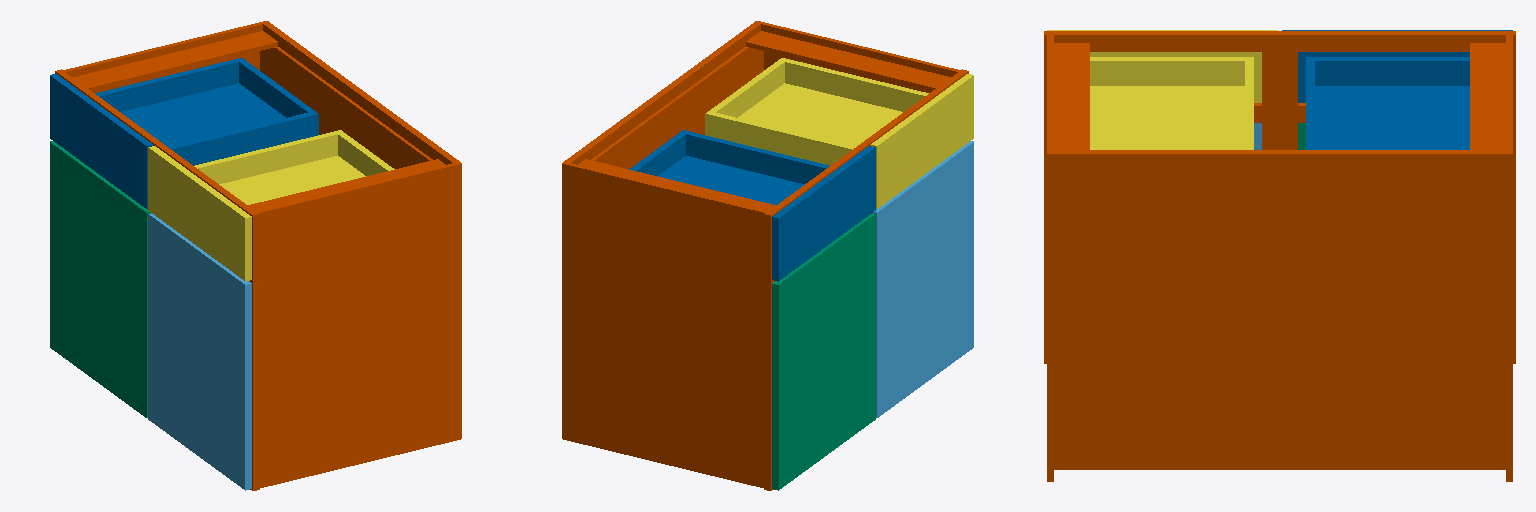
The robot description file, URDF, robot "partnet_190cb7264781df604da5feafe6f1c8fc":
<?xml version="1.0" ?>
<robot name="partnet_190cb7264781df604da5feafe6f1c8fc">
	<link name="base"/>
	<link name="link_0">
		<visual name="cabinet_door_surface-25">
			<origin xyz="-0.6681607803488558 0.5002580285072327 -0.4117648367332666"/>
			<geometry>
				<mesh filename="textured_objs/original-65.obj"/>
			</geometry>
		</visual>
		<visual name="handle-26">
			<origin xyz="-0.6681607803488558 0.5002580285072327 -0.4117648367332666"/>
			<geometry>
				<mesh filename="textured_objs/original-67.obj"/>
			</geometry>
		</visual>
		<visual name="handle-26">
			<origin xyz="-0.6681607803488558 0.5002580285072327 -0.4117648367332666"/>
			<geometry>
				<mesh filename="textured_objs/original-69.obj"/>
			</geometry>
		</visual>
		<visual name="handle-26">
			<origin xyz="-0.6681607803488558 0.5002580285072327 -0.4117648367332666"/>
			<geometry>
				<mesh filename="textured_objs/original-68.obj"/>
			</geometry>
		</visual>
		<collision>
			<origin xyz="-0.6681607803488558 0.5002580285072327 -0.4117648367332666"/>
			<geometry>
				<mesh filename="textured_objs/original-65.obj"/>
			</geometry>
		</collision>
		<collision>
			<origin xyz="-0.6681607803488558 0.5002580285072327 -0.4117648367332666"/>
			<geometry>
				<mesh filename="textured_objs/original-67.obj"/>
			</geometry>
		</collision>
		<collision>
			<origin xyz="-0.6681607803488558 0.5002580285072327 -0.4117648367332666"/>
			<geometry>
				<mesh filename="textured_objs/original-69.obj"/>
			</geometry>
		</collision>
		<collision>
			<origin xyz="-0.6681607803488558 0.5002580285072327 -0.4117648367332666"/>
			<geometry>
				<mesh filename="textured_objs/original-68.obj"/>
			</geometry>
		</collision>
	</link>
	<joint name="joint_0" type="revolute">
		<origin xyz="0.6681607803488558 -0.5002580285072327 0.4117648367332666"/>
		<axis xyz="0 1 0"/>
		<child link="link_0"/>
		<parent link="link_4"/>
		<limit lower="-0.0" upper="1.5707963267948966"/>
	</joint>
	<link name="link_1">
		<visual name="cabinet_door_surface-23">
			<origin xyz="0.6813071306647132 0.5002580285072327 -0.40982595009476297"/>
			<geometry>
				<mesh filename="textured_objs/original-59.obj"/>
			</geometry>
		</visual>
		<visual name="handle-24">
			<origin xyz="0.6813071306647132 0.5002580285072327 -0.40982595009476297"/>
			<geometry>
				<mesh filename="textured_objs/original-61.obj"/>
			</geometry>
		</visual>
		<visual name="handle-24">
			<origin xyz="0.6813071306647132 0.5002580285072327 -0.40982595009476297"/>
			<geometry>
				<mesh filename="textured_objs/original-63.obj"/>
			</geometry>
		</visual>
		<visual name="handle-24">
			<origin xyz="0.6813071306647132 0.5002580285072327 -0.40982595009476297"/>
			<geometry>
				<mesh filename="textured_objs/original-62.obj"/>
			</geometry>
		</visual>
		<collision>
			<origin xyz="0.6813071306647132 0.5002580285072327 -0.40982595009476297"/>
			<geometry>
				<mesh filename="textured_objs/original-59.obj"/>
			</geometry>
		</collision>
		<collision>
			<origin xyz="0.6813071306647132 0.5002580285072327 -0.40982595009476297"/>
			<geometry>
				<mesh filename="textured_objs/original-61.obj"/>
			</geometry>
		</collision>
		<collision>
			<origin xyz="0.6813071306647132 0.5002580285072327 -0.40982595009476297"/>
			<geometry>
				<mesh filename="textured_objs/original-63.obj"/>
			</geometry>
		</collision>
		<collision>
			<origin xyz="0.6813071306647132 0.5002580285072327 -0.40982595009476297"/>
			<geometry>
				<mesh filename="textured_objs/original-62.obj"/>
			</geometry>
		</collision>
	</link>
	<joint name="joint_1" type="revolute">
		<origin xyz="-0.6813071306647132 -0.5002580285072327 0.40982595009476297"/>
		<axis xyz="0 -1 0"/>
		<child link="link_1"/>
		<parent link="link_4"/>
		<limit lower="0.0" upper="1.5707963267948966"/>
	</joint>
	<link name="link_2">
		<visual name="drawer_front-18">
			<origin xyz="-0.3216367870406491 -0.4078478067291077 0.41649198532104537"/>
			<geometry>
				<mesh filename="textured_objs/original-29.obj"/>
			</geometry>
		</visual>
		<visual name="drawer_front-18">
			<origin xyz="-0.3216367870406491 -0.4078478067291077 0.41649198532104537"/>
			<geometry>
				<mesh filename="textured_objs/original-37.obj"/>
			</geometry>
		</visual>
		<visual name="drawer_side-19">
			<origin xyz="-0.3216367870406491 -0.4078478067291077 0.41649198532104537"/>
			<geometry>
				<mesh filename="textured_objs/original-33.obj"/>
			</geometry>
		</visual>
		<visual name="drawer_side-19">
			<origin xyz="-0.3216367870406491 -0.4078478067291077 0.41649198532104537"/>
			<geometry>
				<mesh filename="textured_objs/original-35.obj"/>
			</geometry>
		</visual>
		<visual name="drawer_side-20">
			<origin xyz="-0.3216367870406491 -0.4078478067291077 0.41649198532104537"/>
			<geometry>
				<mesh filename="textured_objs/original-28.obj"/>
			</geometry>
		</visual>
		<visual name="drawer_back-21">
			<origin xyz="-0.3216367870406491 -0.4078478067291077 0.41649198532104537"/>
			<geometry>
				<mesh filename="textured_objs/original-34.obj"/>
			</geometry>
		</visual>
		<visual name="drawer_bottom-22">
			<origin xyz="-0.3216367870406491 -0.4078478067291077 0.41649198532104537"/>
			<geometry>
				<mesh filename="textured_objs/original-32.obj"/>
			</geometry>
		</visual>
		<visual name="drawer_bottom-22">
			<origin xyz="-0.3216367870406491 -0.4078478067291077 0.41649198532104537"/>
			<geometry>
				<mesh filename="textured_objs/original-31.obj"/>
			</geometry>
		</visual>
		<visual name="handle-17">
			<origin xyz="-0.3216367870406491 -0.4078478067291077 0.41649198532104537"/>
			<geometry>
				<mesh filename="textured_objs/original-39.obj"/>
			</geometry>
		</visual>
		<visual name="handle-17">
			<origin xyz="-0.3216367870406491 -0.4078478067291077 0.41649198532104537"/>
			<geometry>
				<mesh filename="textured_objs/original-40.obj"/>
			</geometry>
		</visual>
		<visual name="handle-17">
			<origin xyz="-0.3216367870406491 -0.4078478067291077 0.41649198532104537"/>
			<geometry>
				<mesh filename="textured_objs/original-41.obj"/>
			</geometry>
		</visual>
		<collision>
			<origin xyz="-0.3216367870406491 -0.4078478067291077 0.41649198532104537"/>
			<geometry>
				<mesh filename="textured_objs/original-29.obj"/>
			</geometry>
		</collision>
		<collision>
			<origin xyz="-0.3216367870406491 -0.4078478067291077 0.41649198532104537"/>
			<geometry>
				<mesh filename="textured_objs/original-37.obj"/>
			</geometry>
		</collision>
		<collision>
			<origin xyz="-0.3216367870406491 -0.4078478067291077 0.41649198532104537"/>
			<geometry>
				<mesh filename="textured_objs/original-33.obj"/>
			</geometry>
		</collision>
		<collision>
			<origin xyz="-0.3216367870406491 -0.4078478067291077 0.41649198532104537"/>
			<geometry>
				<mesh filename="textured_objs/original-35.obj"/>
			</geometry>
		</collision>
		<collision>
			<origin xyz="-0.3216367870406491 -0.4078478067291077 0.41649198532104537"/>
			<geometry>
				<mesh filename="textured_objs/original-28.obj"/>
			</geometry>
		</collision>
		<collision>
			<origin xyz="-0.3216367870406491 -0.4078478067291077 0.41649198532104537"/>
			<geometry>
				<mesh filename="textured_objs/original-34.obj"/>
			</geometry>
		</collision>
		<collision>
			<origin xyz="-0.3216367870406491 -0.4078478067291077 0.41649198532104537"/>
			<geometry>
				<mesh filename="textured_objs/original-32.obj"/>
			</geometry>
		</collision>
		<collision>
			<origin xyz="-0.3216367870406491 -0.4078478067291077 0.41649198532104537"/>
			<geometry>
				<mesh filename="textured_objs/original-31.obj"/>
			</geometry>
		</collision>
		<collision>
			<origin xyz="-0.3216367870406491 -0.4078478067291077 0.41649198532104537"/>
			<geometry>
				<mesh filename="textured_objs/original-39.obj"/>
			</geometry>
		</collision>
		<collision>
			<origin xyz="-0.3216367870406491 -0.4078478067291077 0.41649198532104537"/>
			<geometry>
				<mesh filename="textured_objs/original-40.obj"/>
			</geometry>
		</collision>
		<collision>
			<origin xyz="-0.3216367870406491 -0.4078478067291077 0.41649198532104537"/>
			<geometry>
				<mesh filename="textured_objs/original-41.obj"/>
			</geometry>
		</collision>
	</link>
	<joint name="joint_2" type="prismatic">
		<origin xyz="0.3216367870406491 0.4078478067291077 -0.41649198532104537"/>
		<axis xyz="0 0 0.9999999999999999"/>
		<child link="link_2"/>
		<parent link="link_4"/>
		<limit lower="0" upper="0.6400000000000001"/>
	</joint>
	<link name="link_3">
		<visual name="drawer_front-11">
			<origin xyz="0.3642076777137352 -0.40596716406381594 0.41649198532104514"/>
			<geometry>
				<mesh filename="textured_objs/original-45.obj"/>
			</geometry>
		</visual>
		<visual name="drawer_front-11">
			<origin xyz="0.3642076777137352 -0.40596716406381594 0.41649198532104514"/>
			<geometry>
				<mesh filename="textured_objs/original-53.obj"/>
			</geometry>
		</visual>
		<visual name="drawer_side-12">
			<origin xyz="0.3642076777137352 -0.40596716406381594 0.41649198532104514"/>
			<geometry>
				<mesh filename="textured_objs/original-44.obj"/>
			</geometry>
		</visual>
		<visual name="drawer_side-13">
			<origin xyz="0.3642076777137352 -0.40596716406381594 0.41649198532104514"/>
			<geometry>
				<mesh filename="textured_objs/original-49.obj"/>
			</geometry>
		</visual>
		<visual name="drawer_side-13">
			<origin xyz="0.3642076777137352 -0.40596716406381594 0.41649198532104514"/>
			<geometry>
				<mesh filename="textured_objs/original-51.obj"/>
			</geometry>
		</visual>
		<visual name="drawer_back-14">
			<origin xyz="0.3642076777137352 -0.40596716406381594 0.41649198532104514"/>
			<geometry>
				<mesh filename="textured_objs/original-50.obj"/>
			</geometry>
		</visual>
		<visual name="drawer_bottom-15">
			<origin xyz="0.3642076777137352 -0.40596716406381594 0.41649198532104514"/>
			<geometry>
				<mesh filename="textured_objs/original-48.obj"/>
			</geometry>
		</visual>
		<visual name="drawer_bottom-15">
			<origin xyz="0.3642076777137352 -0.40596716406381594 0.41649198532104514"/>
			<geometry>
				<mesh filename="textured_objs/original-47.obj"/>
			</geometry>
		</visual>
		<visual name="handle-10">
			<origin xyz="0.3642076777137352 -0.40596716406381594 0.41649198532104514"/>
			<geometry>
				<mesh filename="textured_objs/original-55.obj"/>
			</geometry>
		</visual>
		<visual name="handle-10">
			<origin xyz="0.3642076777137352 -0.40596716406381594 0.41649198532104514"/>
			<geometry>
				<mesh filename="textured_objs/original-56.obj"/>
			</geometry>
		</visual>
		<visual name="handle-10">
			<origin xyz="0.3642076777137352 -0.40596716406381594 0.41649198532104514"/>
			<geometry>
				<mesh filename="textured_objs/original-57.obj"/>
			</geometry>
		</visual>
		<collision>
			<origin xyz="0.3642076777137352 -0.40596716406381594 0.41649198532104514"/>
			<geometry>
				<mesh filename="textured_objs/original-45.obj"/>
			</geometry>
		</collision>
		<collision>
			<origin xyz="0.3642076777137352 -0.40596716406381594 0.41649198532104514"/>
			<geometry>
				<mesh filename="textured_objs/original-53.obj"/>
			</geometry>
		</collision>
		<collision>
			<origin xyz="0.3642076777137352 -0.40596716406381594 0.41649198532104514"/>
			<geometry>
				<mesh filename="textured_objs/original-44.obj"/>
			</geometry>
		</collision>
		<collision>
			<origin xyz="0.3642076777137352 -0.40596716406381594 0.41649198532104514"/>
			<geometry>
				<mesh filename="textured_objs/original-49.obj"/>
			</geometry>
		</collision>
		<collision>
			<origin xyz="0.3642076777137352 -0.40596716406381594 0.41649198532104514"/>
			<geometry>
				<mesh filename="textured_objs/original-51.obj"/>
			</geometry>
		</collision>
		<collision>
			<origin xyz="0.3642076777137352 -0.40596716406381594 0.41649198532104514"/>
			<geometry>
				<mesh filename="textured_objs/original-50.obj"/>
			</geometry>
		</collision>
		<collision>
			<origin xyz="0.3642076777137352 -0.40596716406381594 0.41649198532104514"/>
			<geometry>
				<mesh filename="textured_objs/original-48.obj"/>
			</geometry>
		</collision>
		<collision>
			<origin xyz="0.3642076777137352 -0.40596716406381594 0.41649198532104514"/>
			<geometry>
				<mesh filename="textured_objs/original-47.obj"/>
			</geometry>
		</collision>
		<collision>
			<origin xyz="0.3642076777137352 -0.40596716406381594 0.41649198532104514"/>
			<geometry>
				<mesh filename="textured_objs/original-55.obj"/>
			</geometry>
		</collision>
		<collision>
			<origin xyz="0.3642076777137352 -0.40596716406381594 0.41649198532104514"/>
			<geometry>
				<mesh filename="textured_objs/original-56.obj"/>
			</geometry>
		</collision>
		<collision>
			<origin xyz="0.3642076777137352 -0.40596716406381594 0.41649198532104514"/>
			<geometry>
				<mesh filename="textured_objs/original-57.obj"/>
			</geometry>
		</collision>
	</link>
	<joint name="joint_3" type="prismatic">
		<origin xyz="-0.3642076777137352 0.40596716406381594 -0.41649198532104514"/>
		<axis xyz="0 0 0.9999999999999999"/>
		<child link="link_3"/>
		<parent link="link_4"/>
		<limit lower="0" upper="0.6400000000000001"/>
	</joint>
	<link name="link_4">
		<visual name="shelf-4">
			<origin xyz="0 0 0"/>
			<geometry>
				<mesh filename="textured_objs/original-25.obj"/>
			</geometry>
		</visual>
		<visual name="other_leaf-40">
			<origin xyz="0 0 0"/>
			<geometry>
				<mesh filename="textured_objs/original-70.obj"/>
			</geometry>
		</visual>
		<visual name="vertical_side_panel-31">
			<origin xyz="0 0 0"/>
			<geometry>
				<mesh filename="textured_objs/original-12.obj"/>
			</geometry>
		</visual>
		<visual name="vertical_side_panel-31">
			<origin xyz="0 0 0"/>
			<geometry>
				<mesh filename="textured_objs/original-11.obj"/>
			</geometry>
		</visual>
		<visual name="vertical_side_panel-32">
			<origin xyz="0 0 0"/>
			<geometry>
				<mesh filename="textured_objs/original-16.obj"/>
			</geometry>
		</visual>
		<visual name="vertical_side_panel-32">
			<origin xyz="0 0 0"/>
			<geometry>
				<mesh filename="textured_objs/original-15.obj"/>
			</geometry>
		</visual>
		<visual name="vertical_front_panel-33">
			<origin xyz="0 0 0"/>
			<geometry>
				<mesh filename="textured_objs/original-18.obj"/>
			</geometry>
		</visual>
		<visual name="vertical_front_panel-33">
			<origin xyz="0 0 0"/>
			<geometry>
				<mesh filename="textured_objs/original-19.obj"/>
			</geometry>
		</visual>
		<visual name="vertical_front_panel-33">
			<origin xyz="0 0 0"/>
			<geometry>
				<mesh filename="textured_objs/original-24.obj"/>
			</geometry>
		</visual>
		<visual name="vertical_front_panel-33">
			<origin xyz="0 0 0"/>
			<geometry>
				<mesh filename="textured_objs/original-7.obj"/>
			</geometry>
		</visual>
		<visual name="vertical_front_panel-33">
			<origin xyz="0 0 0"/>
			<geometry>
				<mesh filename="textured_objs/original-8.obj"/>
			</geometry>
		</visual>
		<visual name="vertical_front_panel-33">
			<origin xyz="0 0 0"/>
			<geometry>
				<mesh filename="textured_objs/original-4.obj"/>
			</geometry>
		</visual>
		<visual name="vertical_front_panel-33">
			<origin xyz="0 0 0"/>
			<geometry>
				<mesh filename="textured_objs/original-9.obj"/>
			</geometry>
		</visual>
		<visual name="back_panel-34">
			<origin xyz="0 0 0"/>
			<geometry>
				<mesh filename="textured_objs/original-6.obj"/>
			</geometry>
		</visual>
		<visual name="back_panel-34">
			<origin xyz="0 0 0"/>
			<geometry>
				<mesh filename="textured_objs/original-5.obj"/>
			</geometry>
		</visual>
		<visual name="bottom_panel-35">
			<origin xyz="0 0 0"/>
			<geometry>
				<mesh filename="textured_objs/original-3.obj"/>
			</geometry>
		</visual>
		<visual name="frame_horizontal_bar-36">
			<origin xyz="0 0 0"/>
			<geometry>
				<mesh filename="textured_objs/original-23.obj"/>
			</geometry>
		</visual>
		<visual name="frame_horizontal_bar-37">
			<origin xyz="0 0 0"/>
			<geometry>
				<mesh filename="textured_objs/original-22.obj"/>
			</geometry>
		</visual>
		<visual name="base_side_panel-28">
			<origin xyz="0 0 0"/>
			<geometry>
				<mesh filename="textured_objs/original-13.obj"/>
			</geometry>
		</visual>
		<visual name="base_side_panel-29">
			<origin xyz="0 0 0"/>
			<geometry>
				<mesh filename="textured_objs/original-17.obj"/>
			</geometry>
		</visual>
		<visual name="base_side_panel-30">
			<origin xyz="0 0 0"/>
			<geometry>
				<mesh filename="textured_objs/original-21.obj"/>
			</geometry>
		</visual>
		<visual name="base_side_panel-38">
			<origin xyz="0 0 0"/>
			<geometry>
				<mesh filename="textured_objs/original-20.obj"/>
			</geometry>
		</visual>
		<collision>
			<origin xyz="0 0 0"/>
			<geometry>
				<mesh filename="textured_objs/original-25.obj"/>
			</geometry>
		</collision>
		<collision>
			<origin xyz="0 0 0"/>
			<geometry>
				<mesh filename="textured_objs/original-70.obj"/>
			</geometry>
		</collision>
		<collision>
			<origin xyz="0 0 0"/>
			<geometry>
				<mesh filename="textured_objs/original-12.obj"/>
			</geometry>
		</collision>
		<collision>
			<origin xyz="0 0 0"/>
			<geometry>
				<mesh filename="textured_objs/original-11.obj"/>
			</geometry>
		</collision>
		<collision>
			<origin xyz="0 0 0"/>
			<geometry>
				<mesh filename="textured_objs/original-16.obj"/>
			</geometry>
		</collision>
		<collision>
			<origin xyz="0 0 0"/>
			<geometry>
				<mesh filename="textured_objs/original-15.obj"/>
			</geometry>
		</collision>
		<collision>
			<origin xyz="0 0 0"/>
			<geometry>
				<mesh filename="textured_objs/original-18.obj"/>
			</geometry>
		</collision>
		<collision>
			<origin xyz="0 0 0"/>
			<geometry>
				<mesh filename="textured_objs/original-19.obj"/>
			</geometry>
		</collision>
		<collision>
			<origin xyz="0 0 0"/>
			<geometry>
				<mesh filename="textured_objs/original-24.obj"/>
			</geometry>
		</collision>
		<collision>
			<origin xyz="0 0 0"/>
			<geometry>
				<mesh filename="textured_objs/original-7.obj"/>
			</geometry>
		</collision>
		<collision>
			<origin xyz="0 0 0"/>
			<geometry>
				<mesh filename="textured_objs/original-8.obj"/>
			</geometry>
		</collision>
		<collision>
			<origin xyz="0 0 0"/>
			<geometry>
				<mesh filename="textured_objs/original-4.obj"/>
			</geometry>
		</collision>
		<collision>
			<origin xyz="0 0 0"/>
			<geometry>
				<mesh filename="textured_objs/original-9.obj"/>
			</geometry>
		</collision>
		<collision>
			<origin xyz="0 0 0"/>
			<geometry>
				<mesh filename="textured_objs/original-6.obj"/>
			</geometry>
		</collision>
		<collision>
			<origin xyz="0 0 0"/>
			<geometry>
				<mesh filename="textured_objs/original-5.obj"/>
			</geometry>
		</collision>
		<collision>
			<origin xyz="0 0 0"/>
			<geometry>
				<mesh filename="textured_objs/original-3.obj"/>
			</geometry>
		</collision>
		<collision>
			<origin xyz="0 0 0"/>
			<geometry>
				<mesh filename="textured_objs/original-23.obj"/>
			</geometry>
		</collision>
		<collision>
			<origin xyz="0 0 0"/>
			<geometry>
				<mesh filename="textured_objs/original-22.obj"/>
			</geometry>
		</collision>
		<collision>
			<origin xyz="0 0 0"/>
			<geometry>
				<mesh filename="textured_objs/original-13.obj"/>
			</geometry>
		</collision>
		<collision>
			<origin xyz="0 0 0"/>
			<geometry>
				<mesh filename="textured_objs/original-17.obj"/>
			</geometry>
		</collision>
		<collision>
			<origin xyz="0 0 0"/>
			<geometry>
				<mesh filename="textured_objs/original-21.obj"/>
			</geometry>
		</collision>
		<collision>
			<origin xyz="0 0 0"/>
			<geometry>
				<mesh filename="textured_objs/original-20.obj"/>
			</geometry>
		</collision>
	</link>
	<joint name="joint_4" type="fixed">
		<origin rpy="1.570796326794897 0 -1.570796326794897" xyz="0 0 0"/>
		<child link="link_4"/>
		<parent link="base"/>
	</joint>
</robot>

--- Render facts (derived) ---
Views: 3 orthographic renders of the robot side by side, from view 1: azimuth 30°, elevation 25°; view 2: azimuth 150°, elevation 25°; view 3: azimuth 270°, elevation 25°.
Model partnet_190cb7264781df604da5feafe6f1c8fc with 6 links and 5 joints (2 revolute, 2 prismatic, 1 fixed), rooted at base, posed every joint at zero.
Links seen in each view (by area): view 1: link_4, link_0, link_3, link_1, link_2; view 2: link_4, link_1, link_2, link_0, link_3; view 3: link_4, link_2, link_3.
Link boxes in pixels (x1,y1,x2,y2): link_4: (55, 21, 461, 490); link_0: (148, 213, 251, 490); link_3: (50, 58, 318, 208); link_1: (50, 141, 150, 417); link_2: (148, 130, 394, 281); link_4: (562, 21, 968, 490); link_1: (772, 213, 875, 490); link_2: (705, 58, 973, 208); link_0: (873, 141, 973, 417); link_3: (629, 130, 875, 281); link_4: (1044, 31, 1515, 481); link_2: (1047, 30, 1277, 149); link_3: (1282, 30, 1512, 149).
Bounding box of the posed robot: 0.8801 × 1.39 × 1.07 m (x, y, z).
Meshes: 52 distinct files referenced, 36 mesh visuals loaded (36 OBJ); not drawn: 16 (reference not matched to a file when rendering).